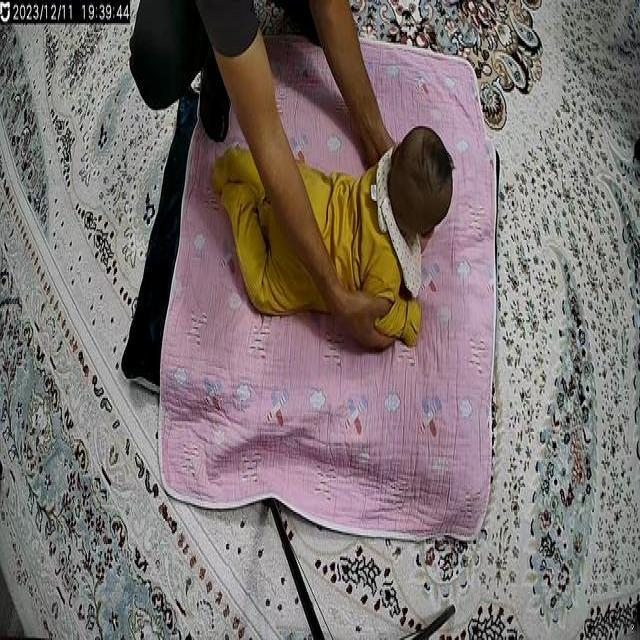baby: (210, 117, 456, 350)
